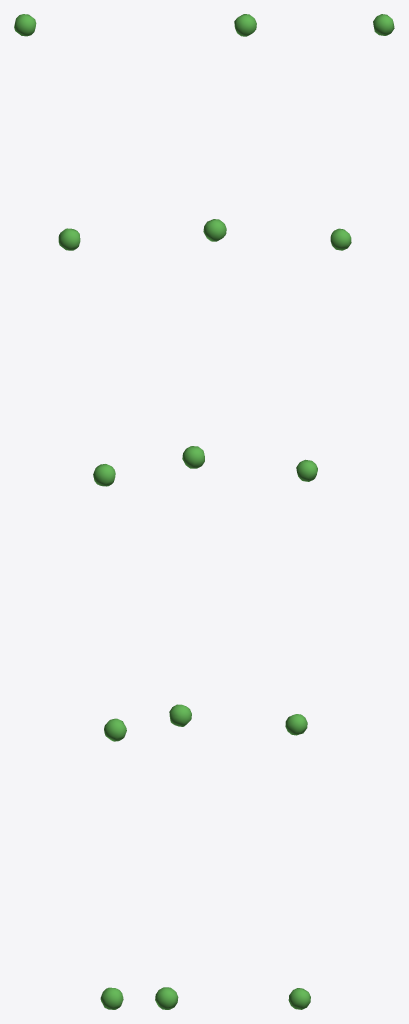
File: linfatico-precaval-nodes.glb
The picture shows the model from 3 angles, left to right: view 1: azimuth 90°, elevation 25°; view 2: azimuth 210°, elevation 25°; view 3: azimuth 270°, elevation 25°; orthographic projection. The views are drawn at different scales.
Visible parts, largest first — view 1: Precaval nodes; view 2: Precaval nodes; view 3: Precaval nodes.
Boxes of the visible parts, left/top/right/bottom form: Precaval nodes: left=14, top=14, right=126, bottom=1009; Precaval nodes: left=155, top=14, right=256, bottom=1009; Precaval nodes: left=285, top=14, right=394, bottom=1009.
Size of the model in its own units: 0.007 by 0.1241 by 0.0126.
